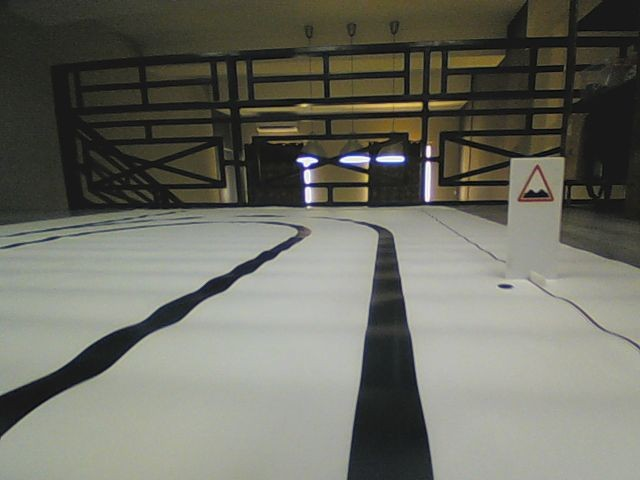Nerov: (516, 163, 554, 204)
